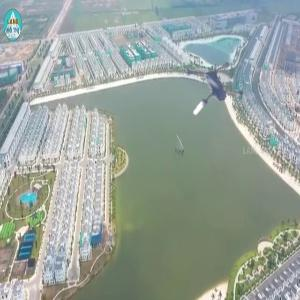drone: (167, 48, 253, 134)
